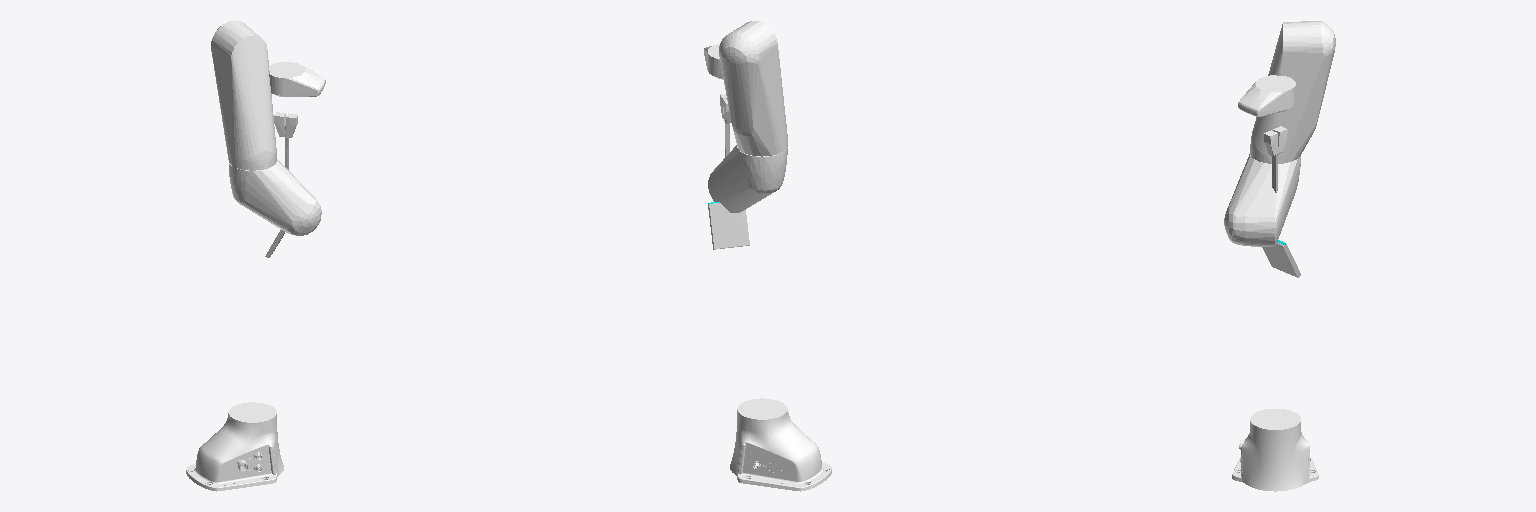
robot.urdf — panda:
<?xml version="1.0" ?>
<!-- =================================================================================== -->
<!-- |    This document was autogenerated by xacro from panda_arm_hand.urdf.xacro      | -->
<!-- |    EDITING THIS FILE BY HAND IS NOT RECOMMENDED                                 | -->
<!-- =================================================================================== -->
<robot name="panda" xmlns:xacro="http://www.ros.org/wiki/xacro">
  <link name="panda_link0">
  	<inertial>
      <origin rpy="0 0 0" xyz="0 0 0.05"/>
       <mass value="2.9"/>
       <inertia ixx="0.1" ixy="0" ixz="0" iyy="0.1" iyz="0" izz="0.1"/>
    </inertial>
    <visual>
      <geometry>
        <mesh filename="package://meshes/collision/link0.obj"/>
      </geometry>
      <material name="panda_white">
    		<color rgba="1. 1. 1. 1."/>
  		</material>
    </visual>
    <collision>
      <geometry>
        <mesh filename="package://meshes/collision/link0.obj"/>
      </geometry>
      <material name="panda_white"/>
    </collision>
  </link>
  <link name="panda_link1">
  	<inertial>
      <origin rpy="0 0 0" xyz="0 -0.04 -0.05"/>
       <mass value="2.7"/>
       <inertia ixx="0.1" ixy="0" ixz="0" iyy="0.1" iyz="0" izz="0.1"/>
    </inertial>
    <visual>
      <geometry>
        <mesh filename="package://meshes/visual/link1.obj"/>
      </geometry>
      <material name="panda_white"/>
    </visual>
    <collision>
      <geometry>
        <mesh filename="package://meshes/collision/link1.obj"/>
      </geometry>
      <material name="panda_white"/>
    </collision>
  </link>
  <joint name="panda_joint1" type="revolute">
    <safety_controller k_position="100.0" k_velocity="40.0" soft_lower_limit="-2.8973" soft_upper_limit="2.8973"/>
    <origin rpy="0 0 0" xyz="0 0 0.333"/>
    <parent link="panda_link0"/>
    <child link="panda_link1"/>
    <axis xyz="0 0 1"/>
    <limit effort="87" lower="-2.9671" upper="2.9671" velocity="2.1750"/>
  </joint>
  <link name="panda_link2">
  	<inertial>
      <origin rpy="0 0 0" xyz="0 -0.04 0.06"/>
       <mass value="2.73"/>
       <inertia ixx="0.1" ixy="0" ixz="0" iyy="0.1" iyz="0" izz="0.1"/>
    </inertial>
    <visual>
      <geometry>
        <mesh filename="package://meshes/visual/link2.obj"/>
      </geometry>
      <material name="panda_white"/>
    </visual>
    <collision>
      <geometry>
        <mesh filename="package://meshes/collision/link2.obj"/>
      </geometry>
      <material name="panda_white"/>
    </collision>
  </link>
  <joint name="panda_joint2" type="revolute">
    <safety_controller k_position="100.0" k_velocity="40.0" soft_lower_limit="-1.7628" soft_upper_limit="1.7628"/>
    <origin rpy="-1.57079632679 0 0" xyz="0 0 0"/>
    <parent link="panda_link1"/>
    <child link="panda_link2"/>
    <axis xyz="0 0 1"/>
    <limit effort="87" lower="-1.8326" upper="1.8326" velocity="2.1750"/>
  </joint>
  <link name="panda_link3">
	  <inertial>
      <origin rpy="0 0 0" xyz="0.01 0.01 -0.05"/>
       <mass value="2.04"/>
       <inertia ixx="0.1" ixy="0" ixz="0" iyy="0.1" iyz="0" izz="0.1"/>
    </inertial>
    <visual>
      <geometry>
        <mesh filename="package://meshes/visual/link3.obj"/>
      </geometry>
      <material name="panda_red">
    		<color rgba="1. 1. 1. 1."/>
  		</material>
    </visual>
    <collision>
      <geometry>
        <mesh filename="package://meshes/collision/link3.obj"/>
      </geometry>
    </collision>
  </link>
  <joint name="panda_joint3" type="revolute">
    <safety_controller k_position="100.0" k_velocity="40.0" soft_lower_limit="-2.8973" soft_upper_limit="2.8973"/>
    <origin rpy="1.57079632679 0 0" xyz="0 -0.316 0"/>
    <parent link="panda_link2"/>
    <child link="panda_link3"/>
    <axis xyz="0 0 1"/>
    <limit effort="87" lower="-2.9671" upper="2.9671" velocity="2.1750"/>
  </joint>
  <link name="panda_link4">
  	<inertial>
      <origin rpy="0 0 0" xyz="-0.03 0.03 0.02"/>
       <mass value="2.08"/>
       <inertia ixx="0.1" ixy="0" ixz="0" iyy="0.1" iyz="0" izz="0.1"/>
    </inertial>
    <visual>
      <geometry>
        <mesh filename="package://meshes/visual/link4.obj"/>
      </geometry>
      <material name="panda_white"/>
    </visual>
    <collision>
      <geometry>
        <mesh filename="package://meshes/collision/link4.obj"/>
      </geometry>
      <material name="panda_white"/>
    </collision>
  </link>
  <joint name="panda_joint4" type="revolute">
    <safety_controller k_position="100.0" k_velocity="40.0" soft_lower_limit="-3.0718" soft_upper_limit="-0.0698"/>
    <origin rpy="1.57079632679 0 0" xyz="0.0825 0 0"/>
    <parent link="panda_link3"/>
    <child link="panda_link4"/>
    <axis xyz="0 0 1"/>
    <limit effort="87" lower="-3.1416" upper="0.0" velocity="2.1750"/>
  </joint>
  <link name="panda_link5">
  	<inertial>
      <origin rpy="0 0 0" xyz="0 0.04 -0.12"/>
       <mass value="3"/>
       <inertia ixx="0.1" ixy="0" ixz="0" iyy="0.1" iyz="0" izz="0.1"/>
    </inertial>
    <visual>
      <geometry>
        <mesh filename="package://meshes/visual/link5.obj"/>
      </geometry>
      <material name="panda_white"/>
    </visual>
    <collision>
      <geometry>
        <mesh filename="package://meshes/collision/link5.obj"/>
      </geometry>
      <material name="panda_white"/>
    </collision>
  </link>
  <joint name="panda_joint5" type="revolute">
    <safety_controller k_position="100.0" k_velocity="40.0" soft_lower_limit="-2.8973" soft_upper_limit="2.8973"/>
    <origin rpy="-1.57079632679 0 0" xyz="-0.0825 0.384 0"/>
    <parent link="panda_link4"/>
    <child link="panda_link5"/>
    <axis xyz="0 0 1"/>
    <limit effort="12" lower="-2.9671" upper="2.9671" velocity="2.6100"/>
  </joint>
  <link name="panda_link6">
  	<inertial>
      <origin rpy="0 0 0" xyz="0.04 0 0"/>
       <mass value="1.3"/>
       <inertia ixx="0.1" ixy="0" ixz="0" iyy="0.1" iyz="0" izz="0.1"/>
    </inertial>
    <visual>
      <geometry>
        <mesh filename="package://meshes/visual/link6.obj"/>
      </geometry>
      <material name="panda_white"/>
    </visual>
    <collision>
      <geometry>
        <mesh filename="package://meshes/collision/link6.obj"/>
      </geometry>
      <material name="panda_white"/>
    </collision>
  </link>
  <joint name="panda_joint6" type="revolute">
    <safety_controller k_position="100.0" k_velocity="40.0" soft_lower_limit="-0.0175" soft_upper_limit="3.7525"/>
    <origin rpy="1.57079632679 0 0" xyz="0 0 0"/>
    <parent link="panda_link5"/>
    <child link="panda_link6"/>
    <axis xyz="0 0 1"/>
    <limit effort="12" lower="-0.0873" upper="3.8223" velocity="2.6100"/>
  </joint>
  <link name="panda_link7">
  	<inertial>
      <origin rpy="0 0 0" xyz="0 0 0.08"/>
       <mass value=".2"/>
       <inertia ixx="0.1" ixy="0" ixz="0" iyy="0.1" iyz="0" izz="0.1"/>
    </inertial>
    <visual>
      <geometry>
        <mesh filename="package://meshes/collision/link7.obj"/>
      </geometry>
      <material name="panda_white"/>
    </visual>
    <collision>
      <geometry>
        <mesh filename="package://meshes/collision/link7.obj"/>
      </geometry>
      <material name="panda_white"/>
    </collision>
  </link>
  <joint name="panda_joint7" type="revolute">
    <safety_controller k_position="100.0" k_velocity="40.0" soft_lower_limit="-2.8973" soft_upper_limit="2.8973"/>
    <origin rpy="1.57079632679 0 0" xyz="0.088 0 0"/>
    <parent link="panda_link6"/>
    <child link="panda_link7"/>
    <axis xyz="0 0 1"/>
    <limit effort="12" lower="-2.9671" upper="2.9671" velocity="2.6100"/>
  </joint>
  <link name="panda_link8">
  	 <inertial>
      <origin rpy="0 0 0" xyz="0 0 0"/>
       <mass value="0.0"/>
       <inertia ixx="0.1" ixy="0" ixz="0" iyy="0.1" iyz="0" izz="0.1"/>
    </inertial>
  </link>
  <joint name="panda_joint8" type="fixed">
    <origin rpy="0 0 0" xyz="0 0 0.107"/>
    <parent link="panda_link7"/>
    <child link="panda_link8"/>
    <axis xyz="0 0 0"/>
  </joint>
  <joint name="panda_hand_joint" type="fixed">
    <parent link="panda_link8"/>
    <child link="panda_hand"/>
    <origin rpy="0 0 -0.785398163397" xyz="0 0 0"/>
  </joint>
  <link name="panda_hand">
  	<inertial>
      <origin rpy="0 0 0" xyz="0 0 0.04"/>
       <mass value=".81"/>
       <inertia ixx="0.1" ixy="0" ixz="0" iyy="0.1" iyz="0" izz="0.1"/>
    </inertial>
    <visual>
      <geometry>
        <mesh filename="package://meshes/visual/hand.obj"/>
      </geometry>
      <material name="panda_white"/>
    </visual>
    <collision>
      <geometry>
        <mesh filename="package://meshes/collision/hand.obj"/>
      </geometry>
      <material name="panda_white"/>
    </collision>
  </link>
  <link name="panda_leftfinger">
       <contact>
      <friction_anchor/>
      <stiffness value="30000.0"/>
      <damping value="1000.0"/>
      <spinning_friction value="0.1"/>
      <lateral_friction value="1.0"/>
    </contact>
  	<inertial>
      <origin rpy="0 0 0" xyz="0 0.01 0.02"/>
       <mass value="0.1"/>
       <inertia ixx="0.1" ixy="0" ixz="0" iyy="0.1" iyz="0" izz="0.1"/>
    </inertial>
    <visual>
      <geometry>
        <mesh filename="package://meshes/visual/finger.obj"/>
      </geometry>
      <material name="panda_white"/>
    </visual>
    <collision>
      <geometry>
        <mesh filename="package://meshes/collision/finger.obj"/>
      </geometry>
      <material name="panda_white"/>
    </collision>
  </link>
  <link name="panda_rightfinger">
        <contact>
      <friction_anchor/>
      <stiffness value="30000.0"/>
      <damping value="1000.0"/>
      <spinning_friction value="0.1"/>
      <lateral_friction value="1.0"/>
    </contact>

  	<inertial>
      <origin rpy="0 0 0" xyz="0 -0.01 0.02"/>
       <mass value="0.1"/>
       <inertia ixx="0.1" ixy="0" ixz="0" iyy="0.1" iyz="0" izz="0.1"/>
    </inertial>
    <visual>
      <origin rpy="0 0 0" xyz="0 0 0"/>
      <geometry>
        <mesh filename="package://meshes/visual/finger.obj"/>
      </geometry>
      <material name="panda_white"/>
    </visual>
    <collision>
      <origin rpy="0 0 0" xyz="0 0 0"/>
      <geometry>
        <mesh filename="package://meshes/collision/finger.obj"/>
      </geometry>
      <material name="panda_white"/>
    </collision>
  </link>
  <joint name="panda_finger_joint1" type="prismatic">
    <parent link="panda_hand"/>
    <child link="panda_leftfinger"/>
    <origin rpy="0 0 0" xyz="0 0 0.0584"/>
    <axis xyz="0 1 0"/>
    <limit effort="20" lower="0.0" upper="0.04" velocity="0.2"/>
  </joint>
  <joint name="panda_finger_joint2" type="prismatic">
    <parent link="panda_hand"/>
    <child link="panda_rightfinger"/>
    <origin rpy="0 0 3.14159265359" xyz="0 0 0.0584"/>
    <axis xyz="0 1 0"/>
    <limit effort="20" lower="0.0" upper="0.04" velocity="0.2"/>
    <mimic joint="panda_finger_joint1"/>
  </joint>
   <link name="panda_grasptarget">
 <inertial>
      <origin rpy="0 0 0" xyz="0 0 0"/>
       <mass value="0.0"/>
       <inertia ixx="0.1" ixy="0" ixz="0" iyy="0.1" iyz="0" izz="0.1"/>
    </inertial>
   </link>
   <joint name="panda_grasptarget_hand" type="fixed">
    <parent link="panda_hand"/>
    <child link="panda_grasptarget"/>
    <origin rpy="0 0 0" xyz="0 0 0.105"/>
  </joint>

<!--  <link name="spatula_link">-->
<!--    <inertial>-->
<!--      <origin rpy="-2.9515927 0 -3.1415926" xyz="0 -0.03 -0.16"/>-->
<!--      <mass value="0.4"/>-->
<!--      <inertia ixx="1" ixy="0" ixz="0" iyy="1" iyz="0" izz="1"/>-->
<!--    </inertial>-->
<!--    <visual>-->
<!--      <origin rpy="-2.9515927 0 -3.1415926" xyz="0 0.0 0.16"/>-->
<!--      <geometry>-->
<!--        <mesh filename="../spatula/spatula.obj" scale="0.4 0.4 0.4"/>-->
<!--      </geometry>-->
<!--      <material name="grey">-->
<!--        <color rgba="0.85 0.85 0.85 1.0"/>-->
<!--      </material>-->
<!--    </visual>-->
<!--    <collision>-->
<!--      <origin rpy="-2.9515927 0 -3.1415926" xyz="0 0.0 0.16"/>-->
<!--      <geometry>-->
<!--  	<mesh filename="../spatula/spatula.obj" scale="0.4 0.4 0.4"/>-->
<!--      </geometry>-->
<!--    </collision>-->
<!--  </link>-->
  <link name="spatula_link">
<!--    <inertial>-->
<!--      <origin rpy="0 0 0" xyz="-0.05 0 0.3"/>-->
<!--&lt;!&ndash;      <origin rpy="-2.9515927 0 -3.1415926" xyz="0 -0.03 -0.16"/>&ndash;&gt;-->
<!--      <mass value="0.4"/>-->
<!--      <inertia ixx="1" ixy="0" ixz="0" iyy="1" iyz="0" izz="1"/>-->
<!--    </inertial>-->
    <visual>
      <origin rpy="0 0 0" xyz="-0. 0 0."/>
      <geometry>
        <mesh filename="../spatula/spatula5_v.obj" scale="0.001 0.001 0.001"/>
      </geometry>
      <material name="grey">
        <color rgba="0.85 0.85 0.85 1.0"/>
      </material>
    </visual>
<!--    <collision>-->
<!--      <origin rpy="0 0 0" xyz="-0.0 0 0."/>-->
<!--      <geometry>-->
<!--  	<mesh filename="../spatula/spatula3_v.obj" scale="0.001 0.001 0.001"/>-->
<!--      </geometry>-->
<!--    </collision>-->
  </link>
   <joint name="grasptarget_hand_to_spatula" type="fixed">
    <parent link="panda_grasptarget"/>
    <child link="spatula_link"/>
    <origin rpy="0 0 -3.1415926" xyz="0 0 0"/>
  </joint>


  <link name="ee">
<!--    <inertial>-->
<!--      <origin rpy="0 0 0" xyz="0 0 0"/>-->
<!--       <mass value="0.0"/>-->
<!--       <inertia ixx="0.1" ixy="0" ixz="0" iyy="0.1" iyz="0" izz="0.1"/>-->
<!--    </inertial>-->
    <visual>
      <origin xyz="0 0 0" rpy="0 0 0"/>
      <geometry>
<!--        <sphere radius="0.01"/>-->
        <box size="0.1 0.08 0.005"/>
      </geometry>
        <material name="cyan">
            <color rgba="0 1 1 0"/>
        </material>
    </visual>
        <collision>
      <origin rpy="0 0 0" xyz="-0.0 0 0."/>
      <geometry>
  	    <box size="0.1 0.08 0.005"/>
      </geometry>
    </collision>
  </link>
  <joint name="spatula_joint_ee" type="fixed">
    <parent link="spatula_link"/>
    <child link="ee"/>
<!--    <origin rpy="0 0 0" xyz="0 -0.01 0.3"/>-->
    <origin rpy=" 0 -2. -1.5707963" xyz="0. 0.01 0.25"/>
  </joint>

  
</robot>

--- Facts derived from the render (not from the file) ---
Views: 3 orthographic renders of the robot side by side, from view 1: azimuth 30°, elevation 25°; view 2: azimuth 150°, elevation 25°; view 3: azimuth 270°, elevation 25°.
Model panda with 15 links and 14 joints (7 revolute, 2 prismatic, 5 fixed), rooted at panda_link0, posed all joints at 0.
Visible links, largest first — view 1: panda_link5, panda_link0, panda_link4, panda_link7; view 2: panda_link5, panda_link0, panda_link4, spatula_link; view 3: panda_link5, panda_link0, panda_link4, panda_link7, spatula_link.
Boxes of the visible links, bbox=[...] form: panda_link5: bbox=[211, 20, 276, 170]; panda_link0: bbox=[186, 402, 283, 491]; panda_link4: bbox=[229, 159, 321, 235]; panda_link7: bbox=[269, 62, 325, 96]; panda_link5: bbox=[719, 21, 787, 156]; panda_link0: bbox=[730, 398, 831, 491]; panda_link4: bbox=[708, 145, 787, 212]; spatula_link: bbox=[708, 123, 749, 249]; panda_link5: bbox=[1250, 21, 1335, 163]; panda_link0: bbox=[1232, 409, 1318, 491]; panda_link4: bbox=[1224, 154, 1300, 246]; panda_link7: bbox=[1238, 75, 1295, 116]; spatula_link: bbox=[1262, 155, 1300, 277].
Size in the robot's own frame: 0.3234 by 0.241 by 1.09 metres.
7 mesh visuals loaded from 11 distinct referenced files (6 OBJ); not drawn: 5 (reference not matched to a file when rendering).
